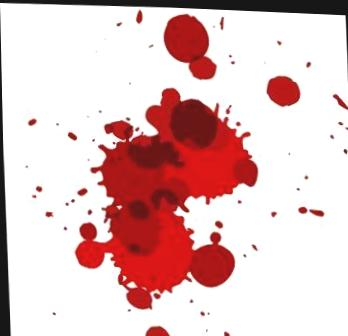Fire: (72, 85, 257, 308), (162, 11, 216, 78), (265, 73, 300, 104), (143, 324, 169, 336)
